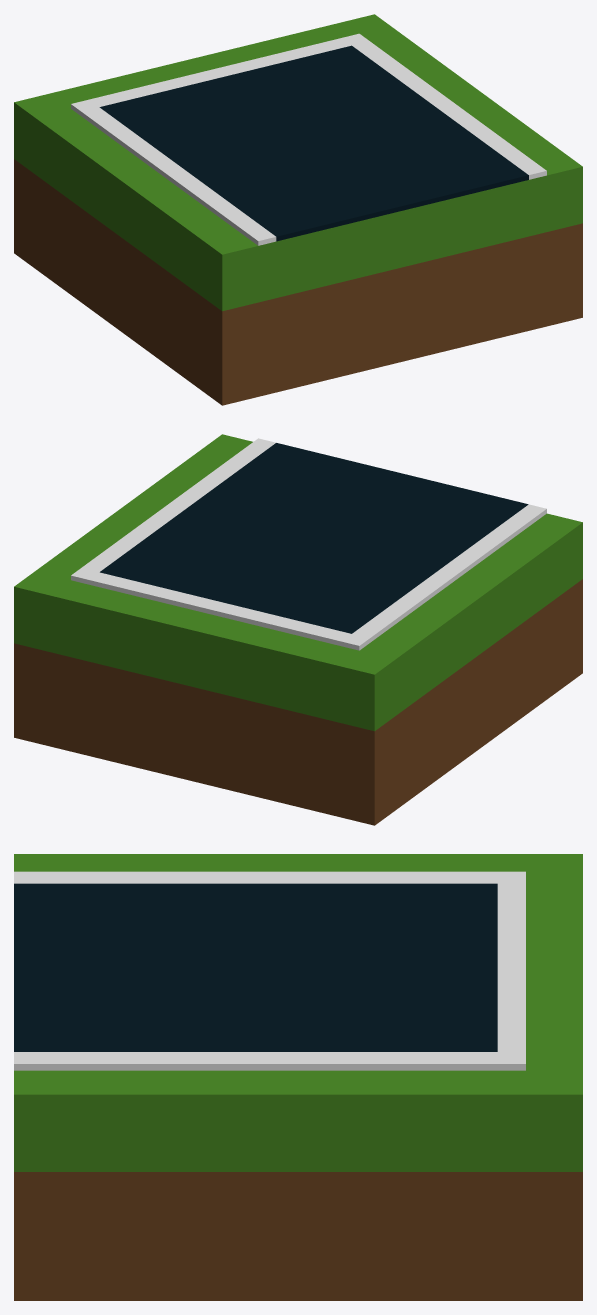
The model's file is Dead_End_Road.fbx.
The picture shows the model from 3 angles, top to bottom: view 1: azimuth 30°, elevation 25°; view 2: azimuth 150°, elevation 25°; view 3: azimuth 270°, elevation 25°; orthographic projection. The views are drawn at different scales.
Visible parts, largest first — view 1: Base.006, Pavement.005; view 2: Base.006, Pavement.005; view 3: Base.006, Pavement.005.
Boxes of the visible parts, <box> form: Base.006: <box>14,14,582,405</box>; Pavement.005: <box>71,33,546,245</box>; Base.006: <box>14,434,582,825</box>; Pavement.005: <box>71,438,546,650</box>; Base.006: <box>14,854,582,1300</box>; Pavement.005: <box>14,871,525,1070</box>.
Size of the model in its own units: 200 by 82.5 by 200.
